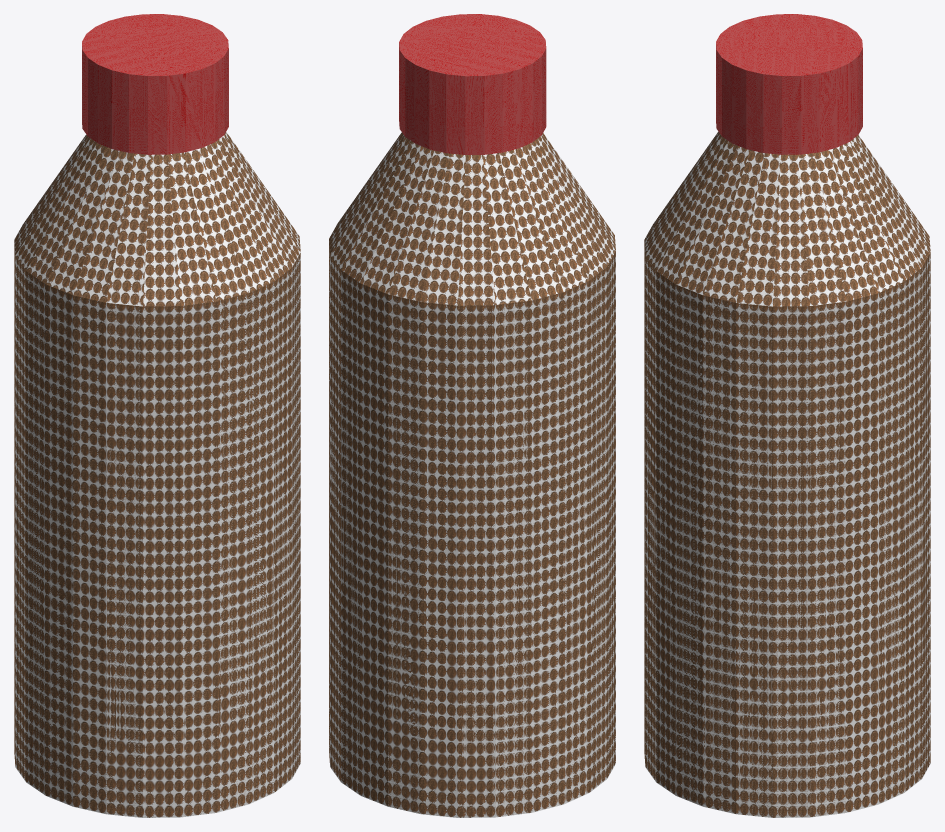
The picture shows the model from 3 angles, left to right: view 1: azimuth 30°, elevation 25°; view 2: azimuth 150°, elevation 25°; view 3: azimuth 270°, elevation 25°; orthographic projection.
Visible parts, largest first — view 1: mesh2.001_mesh2-geometry, mesh1.001_mesh1-geometry; view 2: mesh2.001_mesh2-geometry, mesh1.001_mesh1-geometry; view 3: mesh2.001_mesh2-geometry, mesh1.001_mesh1-geometry.
Boxes of the visible parts, <box> form: mesh2.001_mesh2-geometry: <box>14,131,300,817</box>; mesh1.001_mesh1-geometry: <box>82,14,228,154</box>; mesh2.001_mesh2-geometry: <box>329,132,615,817</box>; mesh1.001_mesh1-geometry: <box>399,14,546,154</box>; mesh2.001_mesh2-geometry: <box>644,131,930,817</box>; mesh1.001_mesh1-geometry: <box>716,14,862,154</box>.
Bounding box in the file's own units: 0.3241 × 0.8888 × 0.3241.
